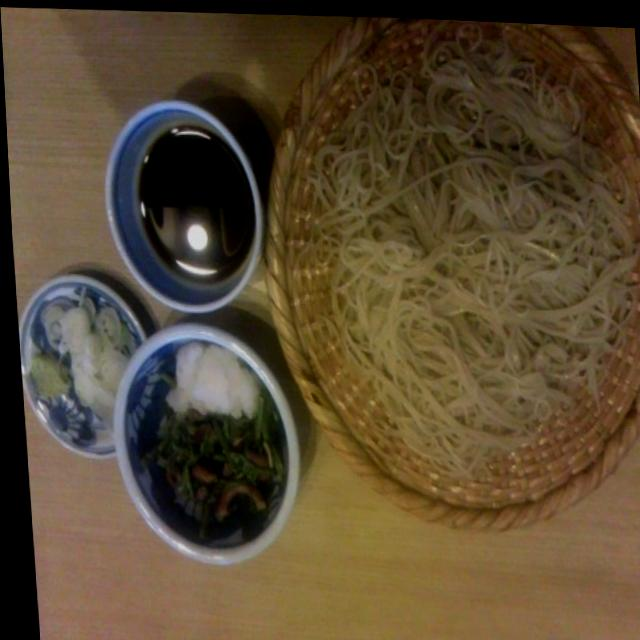面条主食: (243, 8, 640, 536)
